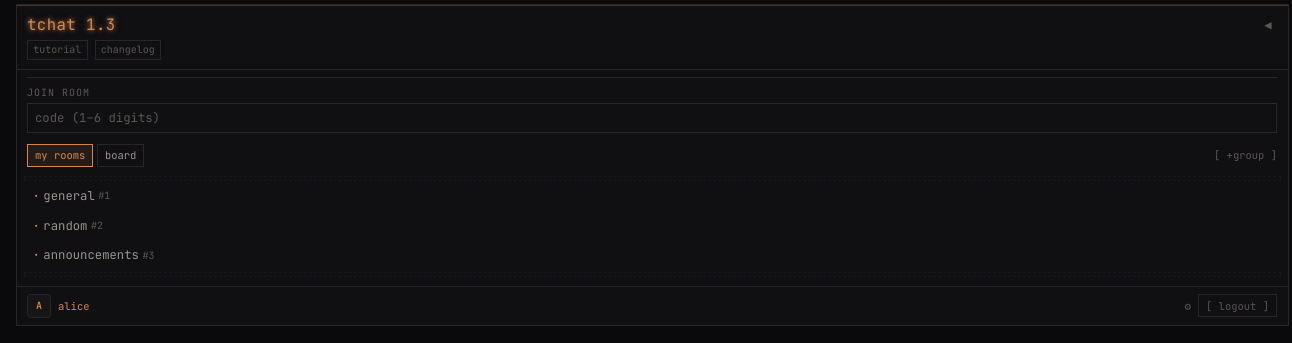
Test: Mute room context menu — unmuted room › shows context menu with 'Mute room' on right-click
The width and height of the screenshot is (1292, 343).
Expected: the button with test id "gc-button-2" is shown, [32, 218, 103, 234]
Expected: the button with test id "gc-button-3" is shown, [32, 247, 154, 263]
Step 1. Right-click the button with test id "gc-button-1" → (71, 196), box [32, 188, 110, 204]
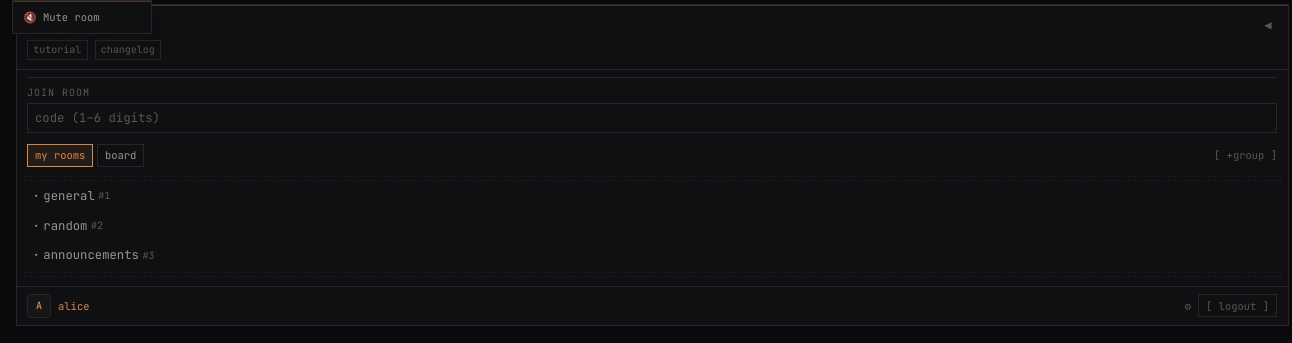
Now the button "🔇 Mute room" is shown, box [13, 4, 151, 29]
